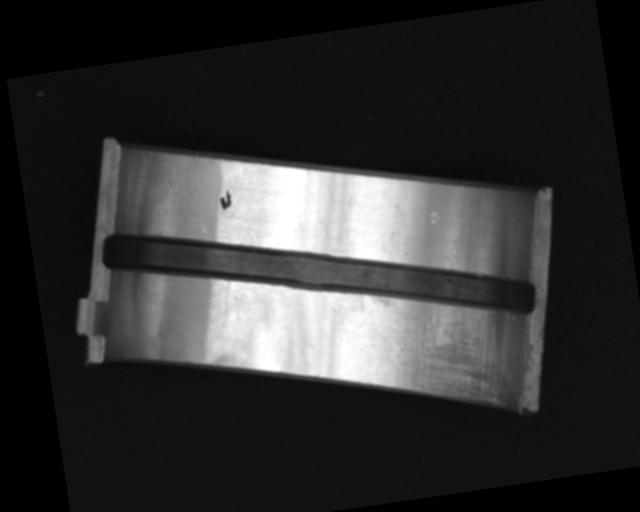blot: (216, 187, 234, 211)
bruise: (427, 210, 439, 226)
gap: (99, 174, 536, 371)
nick: (214, 278, 235, 327)
scratch: (369, 278, 515, 424)
